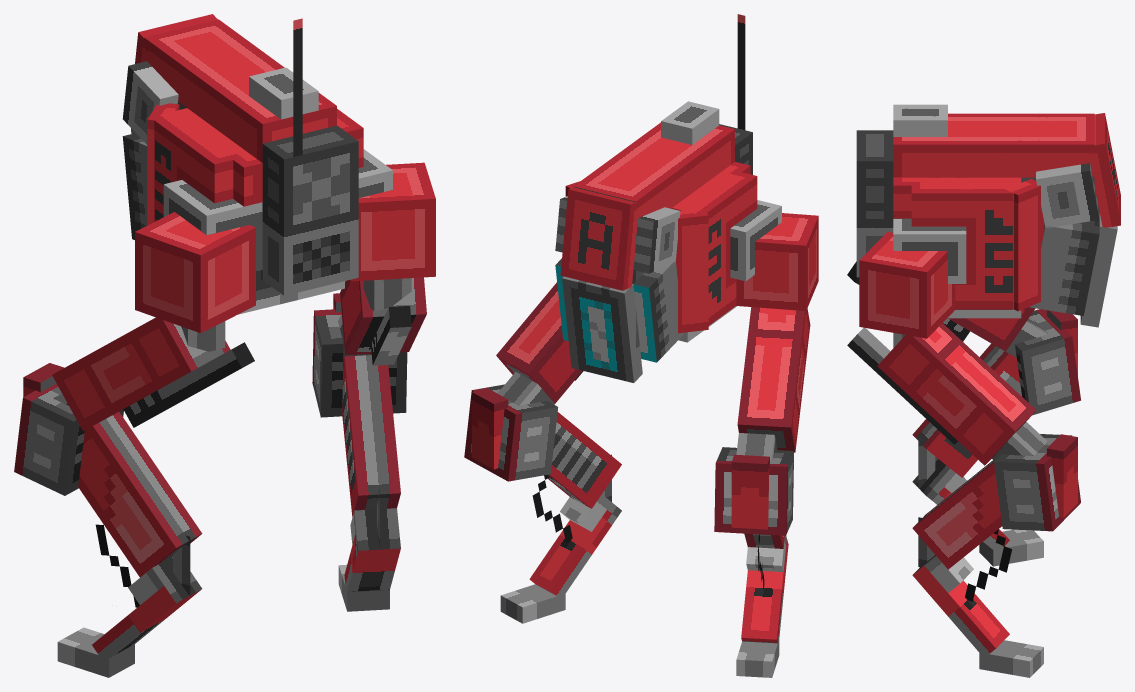
The picture shows the model from 3 angles, left to right: view 1: azimuth 30°, elevation 25°; view 2: azimuth 150°, elevation 25°; view 3: azimuth 270°, elevation 25°; orthographic projection. The views are drawn at different scales.
Visible parts, largest first — view 1: 920cd43c-1093-fbbd-1691-e86b12c9fd4d, 5b1e80dc-ed92-b09f-93fa-8f132198c118, c4bdf34e-35a0-f0c0-fde0-a389957ba872, e9529688-5611-3d68-647e-37b758855c70, c192d818-0159-b815-c810-d3e8a6d2c697, a8216365-9994-3a46-cd47-633b6734f80f, 750e1c07-e028-7c0a-5f7e-af6f3006ee05, 6f5bfcd8-ef09-8a53-ec93-74d05aa10747, 0edbd0b9-594d-66d4-b5f6-4e2a02495a60, 403252c4-044c-f4f8-aff6-ddbcda16f9e6, 023e9d1f-ef8e-aed8-462c-2b01b4aa78a1, b7eefde3-fcce-4592-f0a2-0383a178c3a8 (+22 smaller); view 2: e9529688-5611-3d68-647e-37b758855c70, 9ee8ceb0-480d-3e11-c026-151566cf1b92, 39a27cea-01af-a97c-79fb-6bd8a9f313dd, 5b1e80dc-ed92-b09f-93fa-8f132198c118, c192d818-0159-b815-c810-d3e8a6d2c697, b7eefde3-fcce-4592-f0a2-0383a178c3a8, 023e9d1f-ef8e-aed8-462c-2b01b4aa78a1, 0edbd0b9-594d-66d4-b5f6-4e2a02495a60, 750e1c07-e028-7c0a-5f7e-af6f3006ee05, 502ed052-afd2-69da-e85f-e1b0b434ed94, 6f5bfcd8-ef09-8a53-ec93-74d05aa10747, 5d5892ef-5fad-20b1-f642-efec75b7fc86 (+20 smaller); view 3: b7eefde3-fcce-4592-f0a2-0383a178c3a8, c893c897-1268-a954-10f2-7a0ae2fa3498, c192d818-0159-b815-c810-d3e8a6d2c697, a8216365-9994-3a46-cd47-633b6734f80f, 750e1c07-e028-7c0a-5f7e-af6f3006ee05, 023e9d1f-ef8e-aed8-462c-2b01b4aa78a1, 68cb4308-70bd-d641-0310-e8c94716561b, 6f5bfcd8-ef09-8a53-ec93-74d05aa10747, 920cd43c-1093-fbbd-1691-e86b12c9fd4d, c87d3a3b-0620-3241-d450-13a73b7fe5ea, 34d6529d-69b0-29b1-f46a-65fa094b50fa, aa81b925-811a-988e-9ff9-115bfb596710 (+24 smaller).
Part boxes in pixels (x1,y1,x2,y2): 920cd43c-1093-fbbd-1691-e86b12c9fd4d: (262, 125, 358, 295); 5b1e80dc-ed92-b09f-93fa-8f132198c118: (135, 212, 255, 333); c4bdf34e-35a0-f0c0-fde0-a389957ba872: (78, 412, 202, 577); e9529688-5611-3d68-647e-37b758855c70: (52, 317, 230, 431); c192d818-0159-b815-c810-d3e8a6d2c697: (176, 43, 336, 162); a8216365-9994-3a46-cd47-633b6734f80f: (350, 162, 435, 281); 750e1c07-e028-7c0a-5f7e-af6f3006ee05: (342, 355, 400, 517); 6f5bfcd8-ef09-8a53-ec93-74d05aa10747: (14, 383, 123, 495); 0edbd0b9-594d-66d4-b5f6-4e2a02495a60: (150, 112, 233, 221); 403252c4-044c-f4f8-aff6-ddbcda16f9e6: (163, 149, 392, 262); 023e9d1f-ef8e-aed8-462c-2b01b4aa78a1: (312, 309, 407, 417); b7eefde3-fcce-4592-f0a2-0383a178c3a8: (340, 277, 426, 355); e9529688-5611-3d68-647e-37b758855c70: (737, 307, 810, 452); 9ee8ceb0-480d-3e11-c026-151566cf1b92: (562, 276, 642, 382); 39a27cea-01af-a97c-79fb-6bd8a9f313dd: (560, 187, 637, 290); 5b1e80dc-ed92-b09f-93fa-8f132198c118: (736, 213, 818, 310); c192d818-0159-b815-c810-d3e8a6d2c697: (601, 122, 734, 208); b7eefde3-fcce-4592-f0a2-0383a178c3a8: (496, 282, 582, 403); 023e9d1f-ef8e-aed8-462c-2b01b4aa78a1: (464, 384, 558, 481); 0edbd0b9-594d-66d4-b5f6-4e2a02495a60: (688, 172, 757, 325); 750e1c07-e028-7c0a-5f7e-af6f3006ee05: (547, 412, 621, 508); 502ed052-afd2-69da-e85f-e1b0b434ed94: (676, 208, 708, 333); 6f5bfcd8-ef09-8a53-ec93-74d05aa10747: (714, 447, 793, 535); 5d5892ef-5fad-20b1-f642-efec75b7fc86: (633, 260, 683, 362); b7eefde3-fcce-4592-f0a2-0383a178c3a8: (877, 323, 1036, 465); c893c897-1268-a954-10f2-7a0ae2fa3498: (911, 185, 1020, 309); c192d818-0159-b815-c810-d3e8a6d2c697: (893, 113, 1039, 177); a8216365-9994-3a46-cd47-633b6734f80f: (859, 232, 955, 338); 750e1c07-e028-7c0a-5f7e-af6f3006ee05: (912, 460, 1002, 569); 023e9d1f-ef8e-aed8-462c-2b01b4aa78a1: (994, 434, 1080, 531); 68cb4308-70bd-d641-0310-e8c94716561b: (1030, 223, 1099, 315); 6f5bfcd8-ef09-8a53-ec93-74d05aa10747: (1015, 309, 1080, 415); 920cd43c-1093-fbbd-1691-e86b12c9fd4d: (856, 130, 893, 277); c87d3a3b-0620-3241-d450-13a73b7fe5ea: (1006, 179, 1044, 311); 34d6529d-69b0-29b1-f46a-65fa094b50fa: (912, 559, 1009, 653); aa81b925-811a-988e-9ff9-115bfb596710: (1039, 113, 1094, 185).
Bounding box in the file's own units: 1.29 × 2.19 × 0.9338.
1 material, 1 textured.
